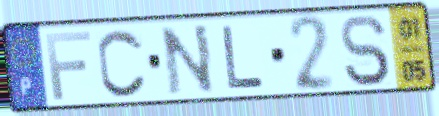2: (287, 10, 337, 98)
C: (96, 26, 150, 100)
F: (42, 29, 94, 103)
L: (219, 23, 268, 92)
N: (157, 21, 218, 98)
S: (338, 12, 393, 88)
